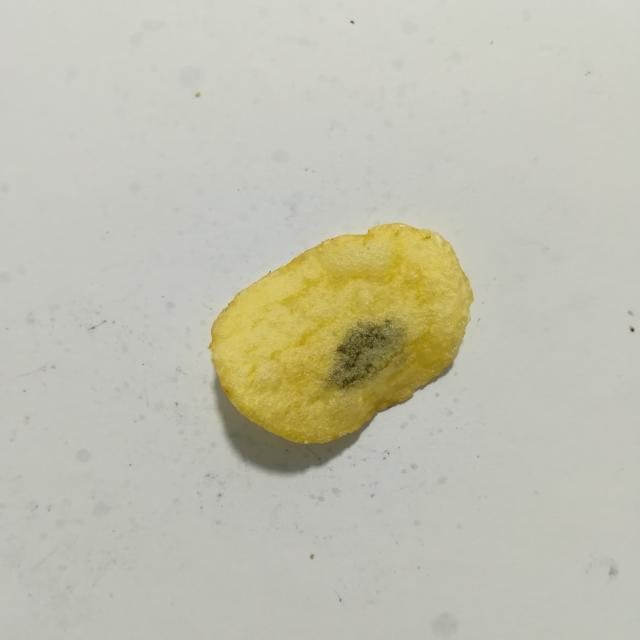chip: (210, 224, 473, 443)
semi-damaged: (328, 319, 403, 389)
